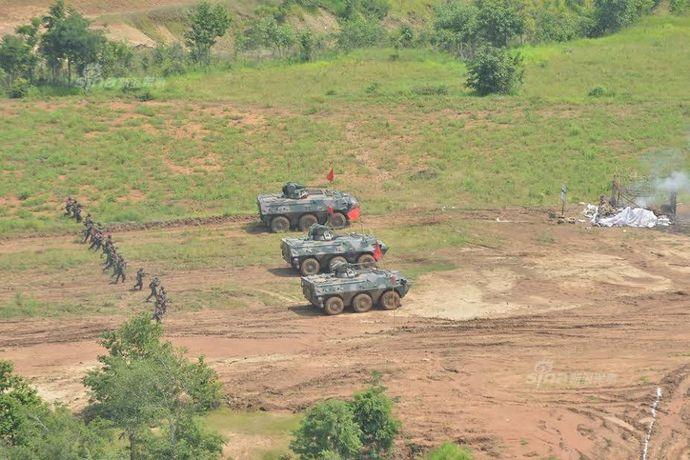armored_car: (299, 256, 412, 316), (280, 228, 388, 276), (254, 188, 362, 233)
